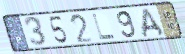2: (69, 13, 94, 44)
3: (24, 16, 47, 48)
5: (47, 15, 69, 45)
9: (117, 10, 136, 39)
A: (141, 7, 167, 39)
L: (91, 13, 117, 41)
